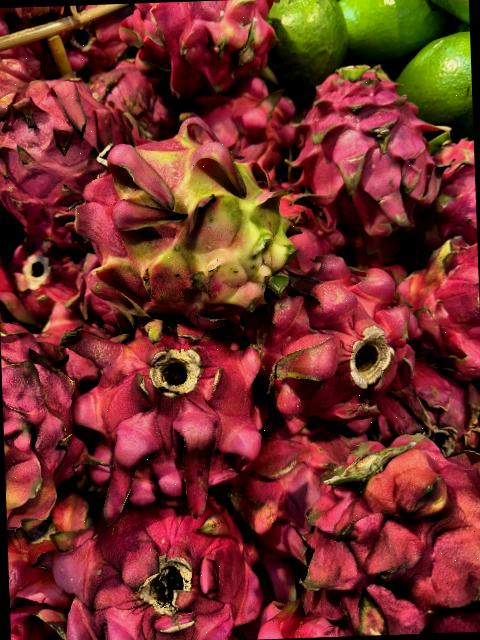buah-naga-belum-matang: (68, 137, 298, 320), (313, 451, 480, 637), (401, 232, 480, 374)
buah-naga-matang: (59, 309, 266, 496), (52, 500, 262, 640), (0, 69, 154, 243), (274, 256, 422, 434), (294, 62, 437, 231), (1, 318, 106, 523), (114, 0, 302, 85)
